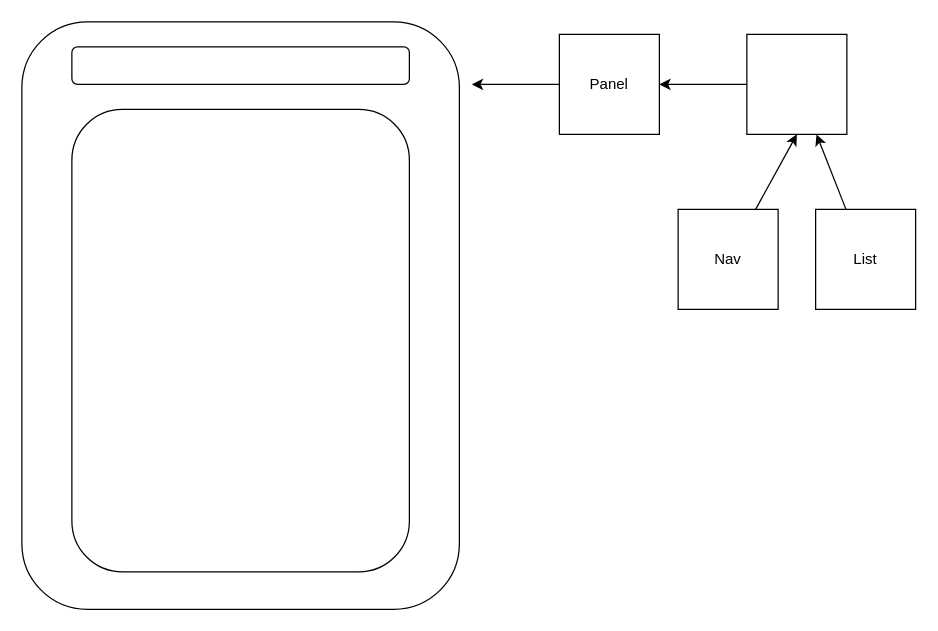
The diagram is 938 pixels wide and 631 high, and some of its shapes have lost their labels. Here are the shapes that lost their labels. From the top down, the centre of each, then its label:
(x=240, y=65): Option 1 | Option 2 | Option 3
(x=796, y=83): Segment
